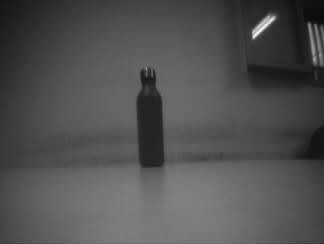Bottle: (136, 67, 165, 167)
